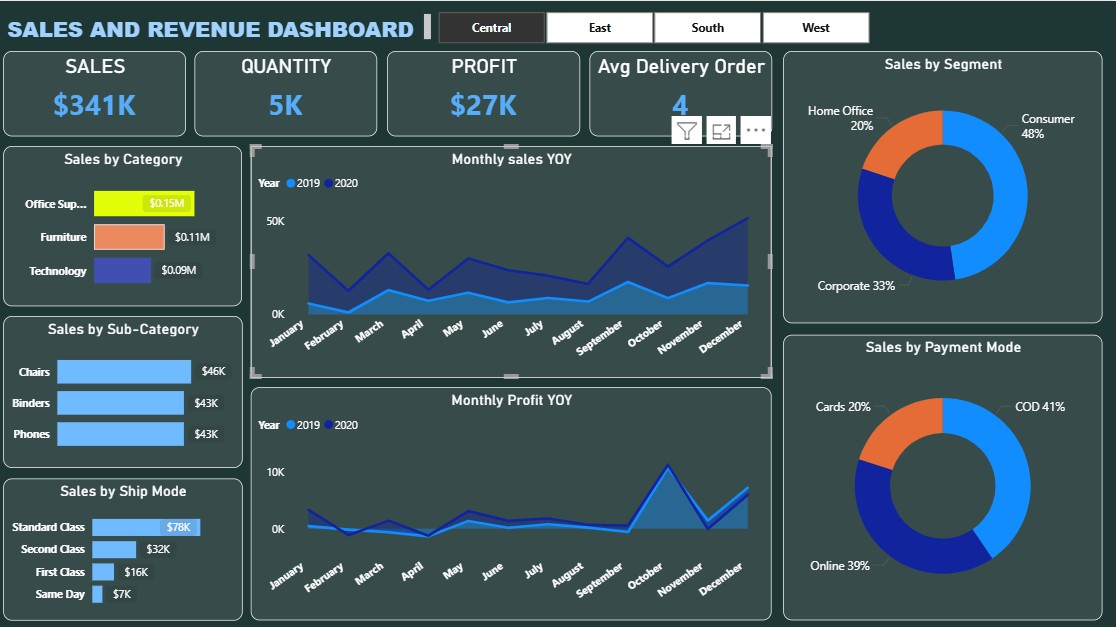

Layout of this report page (visuals, bound fields, positions):
{"tool":"powerbi","page":{"name":" SALES AND REVENUE DASHBOARD","canvas":[1280,720],"ordinal":0},"visuals":[{"type":"clusteredBarChart","title":"Sales by Category","fields":{"Category":["Sheet1.Category"],"Y":["Sum(Sheet1.Sales)"]},"box":[7.1,165.7,272.9,182.9],"z":0},{"type":"clusteredBarChart","title":"Sales by Sub-Category","fields":{"Category":["Sheet1.Sub-Category"],"Y":["Sum(Sheet1.Sales)"]},"box":[6.7,360,273.3,173.3],"z":1000},{"type":"clusteredBarChart","title":"Sales by Ship Mode","fields":{"Category":["Sheet1.Ship Mode"],"Y":["Sum(Sheet1.Sales)"]},"box":[6.7,545.6,273.3,162.2],"z":2000},{"type":"stackedAreaChart","title":"Monthly sales YOY","fields":{"Category":["Sheet1.Order Date.Variation.Date Hierarchy.Month"],"Y":["Sum(Sheet1.Sales)"],"Series":["Sheet1.Order Date.Variation.Date Hierarchy.Year"]},"box":[289.5,166,595.5,264.8],"z":3000},{"type":"donutChart","title":"Sales by Segment","fields":{"Category":["Sheet1.Segment"],"Y":["Sum(Sheet1.Sales)"]},"box":[898.8,57.6,365,311.5],"z":4000},{"type":"textbox","box":[6.9,9.6,494,41.2],"z":5000},{"type":"donutChart","title":"Sales by Payment Mode","fields":{"Category":["Sheet1.Payment Mode"],"Y":["Sum(Sheet1.Sales)"]},"box":[898.8,381.5,365,326.6],"z":6000},{"type":"slicer","fields":{"Values":["Sheet1.Region"]},"box":[478.9,5.5,542,49.4],"z":7000},{"type":"cardVisual","title":"SALES","fields":{"Data":["Sum(Sheet1.Sales)"]},"box":[6.9,57.6,208.6,97.4],"z":8000},{"type":"cardVisual","title":"QUANTITY","fields":{"Data":["Sum(Sheet1.Quantity)"]},"box":[226.4,57.6,208.6,97.4],"z":9000},{"type":"cardVisual","title":"PROFIT","fields":{"Data":["Sum(Sheet1.Profit)"]},"box":[446,57.6,220.9,97.4],"z":10000},{"type":"cardVisual","title":"Avg Delivery Order","fields":{"Data":["Avg(Sheet1.Avg_Order_Delivery)"]},"box":[676.5,57.6,208.6,97.4],"z":11000},{"type":"stackedAreaChart","title":"Monthly Profit YOY","fields":{"Category":["Sheet1.Order Date.Variation.Date Hierarchy.Month"],"Series":["Sheet1.Order Date.Variation.Date Hierarchy.Year"],"Y":["Sum(Sheet1.Profit)"]},"box":[289.5,441.9,595.5,266.2],"z":12000}]}

Visuals, with their boxes in screenshot pixels (x1, y1, x2, y2), scaled from the page's 1280x720 canvas onto the 1116x627 screenshot:
"Sales by Category" clusteredBarChart: (6, 144, 244, 304)
"Sales by Sub-Category" clusteredBarChart: (6, 314, 244, 464)
"Sales by Ship Mode" clusteredBarChart: (6, 475, 244, 616)
"Monthly sales YOY" stackedAreaChart: (252, 145, 772, 375)
"Sales by Segment" donutChart: (784, 50, 1102, 321)
textbox: (6, 8, 437, 44)
"Sales by Payment Mode" donutChart: (784, 332, 1102, 617)
slicer - Sheet1.Region: (418, 5, 890, 48)
"SALES" cardVisual: (6, 50, 188, 135)
"QUANTITY" cardVisual: (197, 50, 379, 135)
"PROFIT" cardVisual: (389, 50, 581, 135)
"Avg Delivery Order" cardVisual: (590, 50, 772, 135)
"Monthly Profit YOY" stackedAreaChart: (252, 385, 772, 617)
